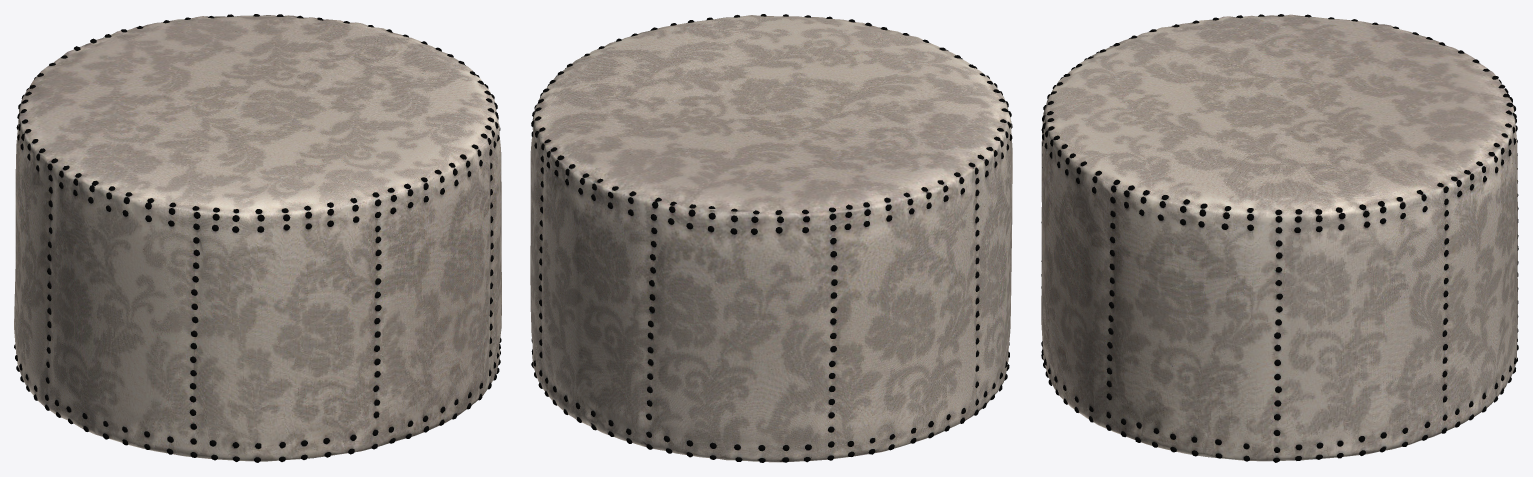
The picture shows the model from 3 angles, left to right: view 1: azimuth 30°, elevation 25°; view 2: azimuth 150°, elevation 25°; view 3: azimuth 270°, elevation 25°; orthographic projection.
Parts seen in each view (by area): view 1: not_clear_obj_0_v6, not_clear_obj_1_v6; view 2: not_clear_obj_0_v6, not_clear_obj_1_v6; view 3: not_clear_obj_0_v6, not_clear_obj_1_v6.
Boxes of the visible parts, bbox=[...] form: not_clear_obj_0_v6: bbox=[14, 15, 501, 461]; not_clear_obj_1_v6: bbox=[14, 14, 501, 462]; not_clear_obj_0_v6: bbox=[530, 15, 1012, 462]; not_clear_obj_1_v6: bbox=[531, 14, 1012, 462]; not_clear_obj_0_v6: bbox=[1041, 14, 1517, 461]; not_clear_obj_1_v6: bbox=[1041, 14, 1518, 462].
Size of what is drawn, in the model's own units: 87.67 by 52.03 by 86.86.
2 materials, 1 textured.
